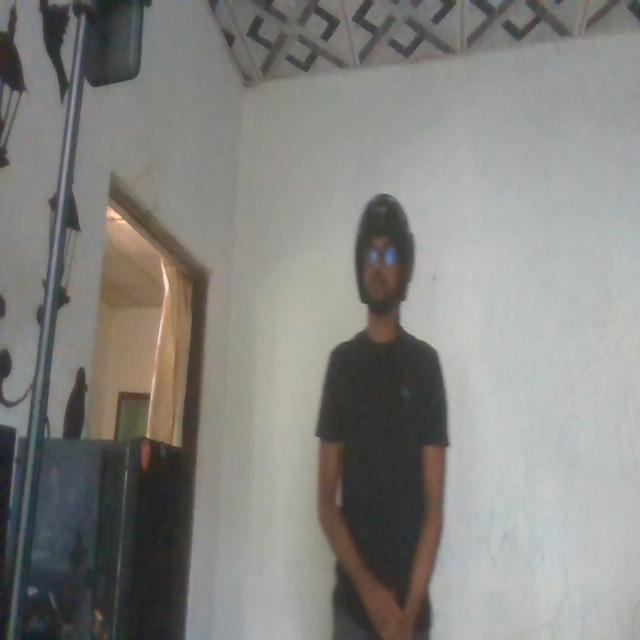Helmet_Wearer: (345, 193, 417, 327)
Person: (314, 182, 450, 640)
